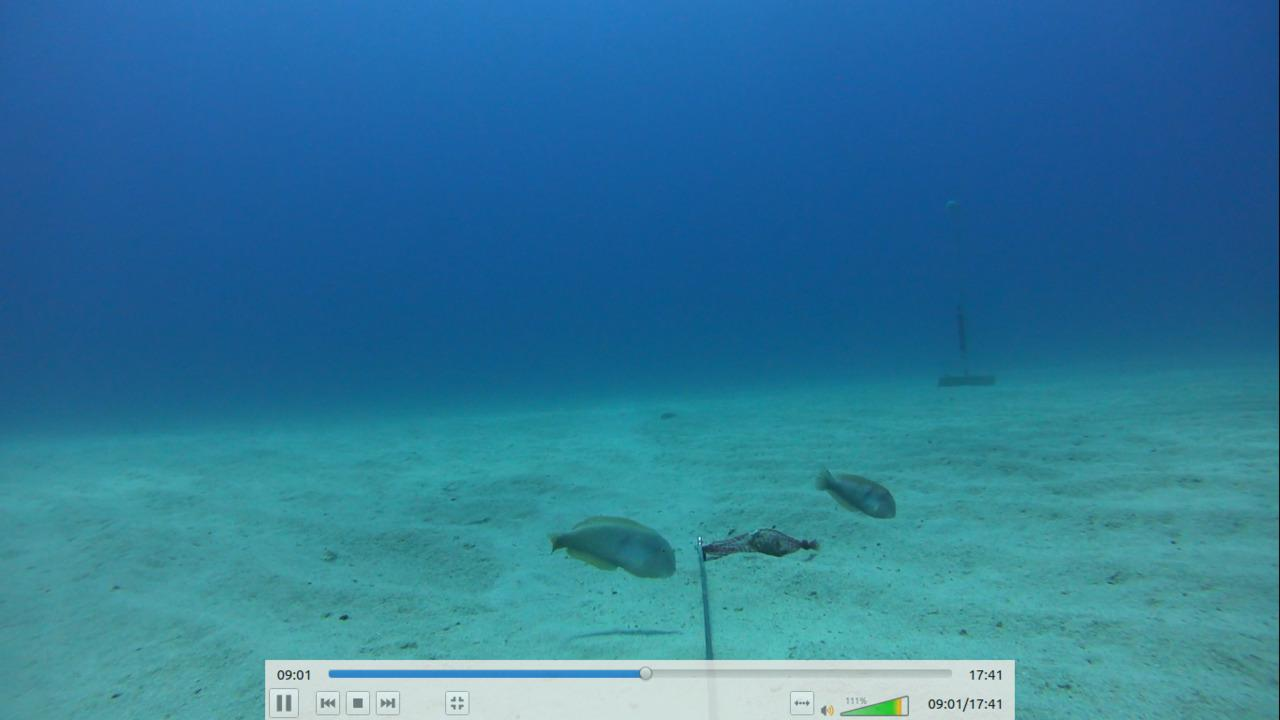raor: (525, 505, 686, 588), (807, 459, 900, 523)
